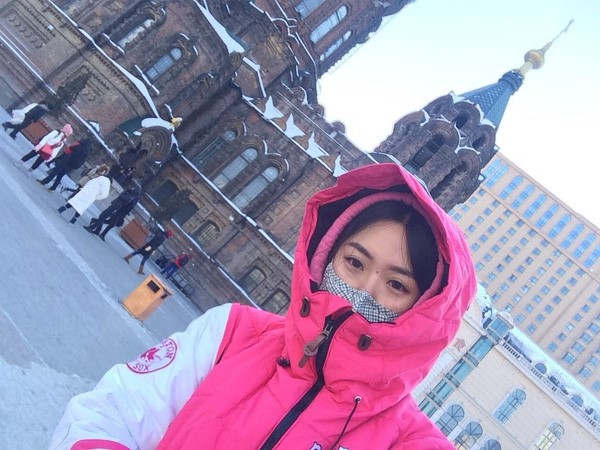face_mask: (327, 222, 419, 355)
